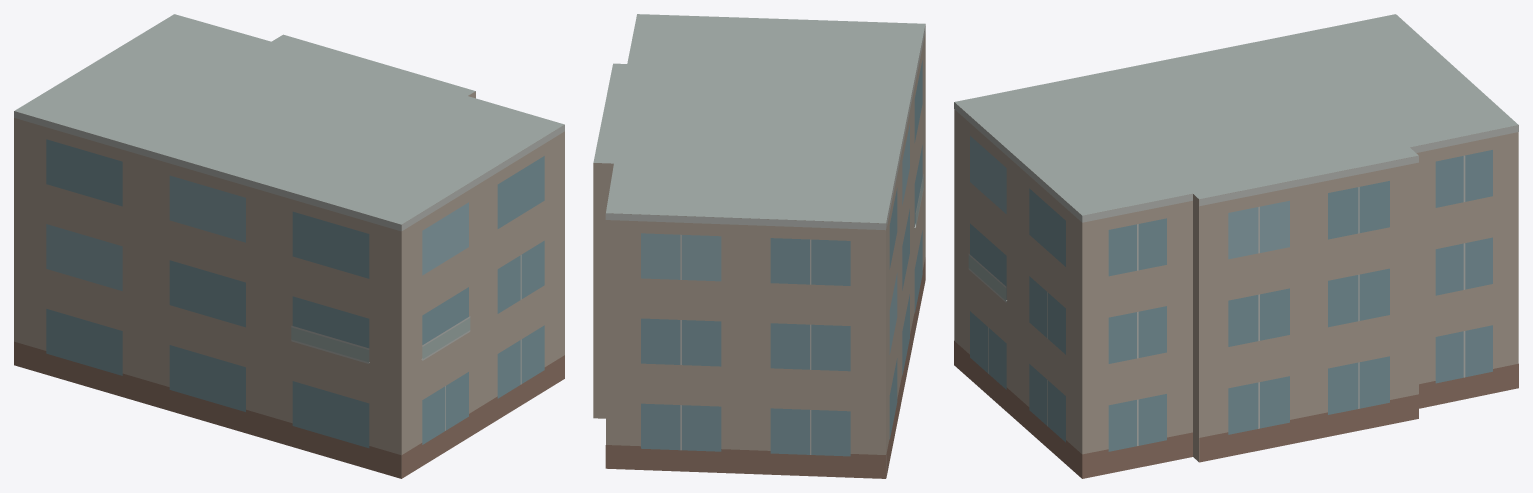
File: survey-upis-32708301.glb
3 renders of one model, left to right at view 1: azimuth 30°, elevation 25°; view 2: azimuth 150°, elevation 25°; view 3: azimuth 270°, elevation 25°, orthographic. The views are drawn at different scales.
Visible parts, largest first — view 1: survey-upis-32708301.tmp; view 2: survey-upis-32708301.tmp; view 3: survey-upis-32708301.tmp.
Boxes of the visible parts, x1,y1,x2,y2 form: survey-upis-32708301.tmp: (14, 14, 564, 478); survey-upis-32708301.tmp: (593, 14, 925, 478); survey-upis-32708301.tmp: (954, 14, 1518, 478).
Bounding box in the file's own units: 15.05 × 9.15 × 17.8.
